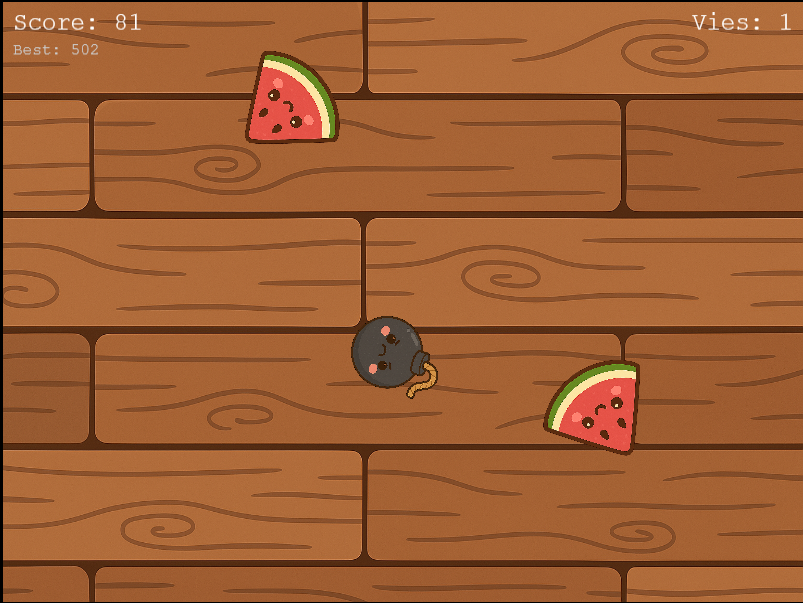bomb: (342, 309, 441, 408)
fruit: (242, 45, 349, 152), (541, 353, 648, 460)
